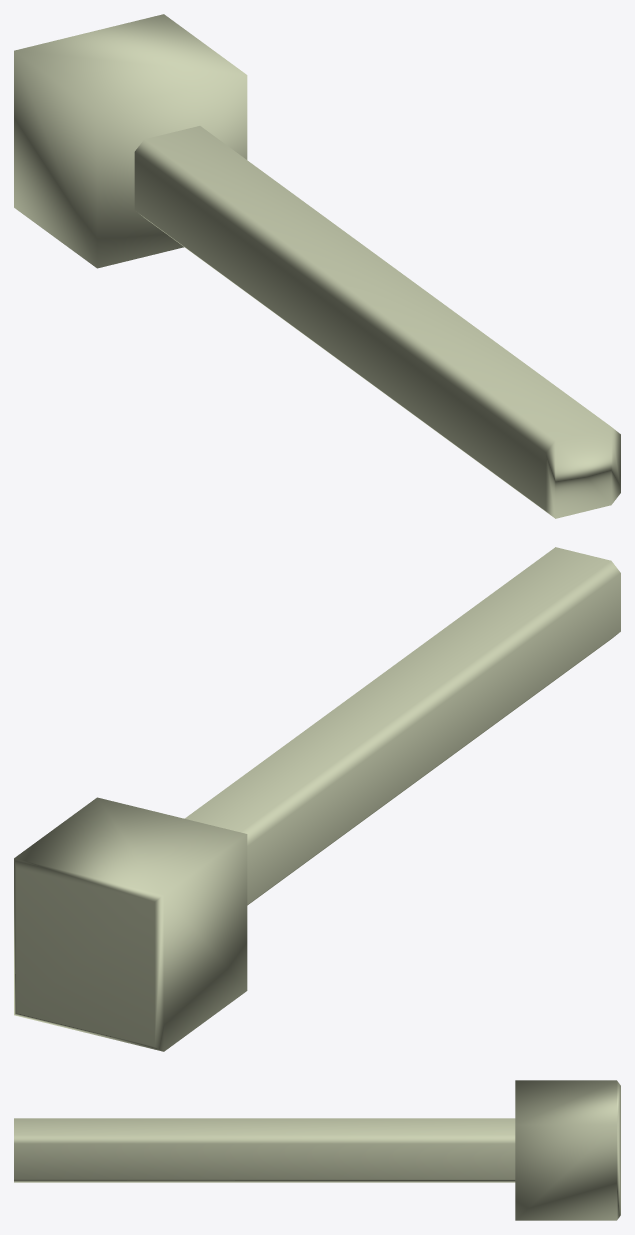
Rendered from widget_scale.fbx.
The picture shows the model from 3 angles, top to bottom: view 1: azimuth 30°, elevation 25°; view 2: azimuth 150°, elevation 25°; view 3: azimuth 270°, elevation 25°; orthographic projection. The views are drawn at different scales.
Parts seen in each view (by area): view 1: Cube5; view 2: Cube5; view 3: Cube5.
Part boxes in pixels (box(x1,y1,x2,y2)): Cube5: box(14, 14, 620, 518); Cube5: box(14, 547, 620, 1051); Cube5: box(14, 1080, 620, 1220).
Size of the model in its own units: 0.3378 by 0.3378 by 1.94.
